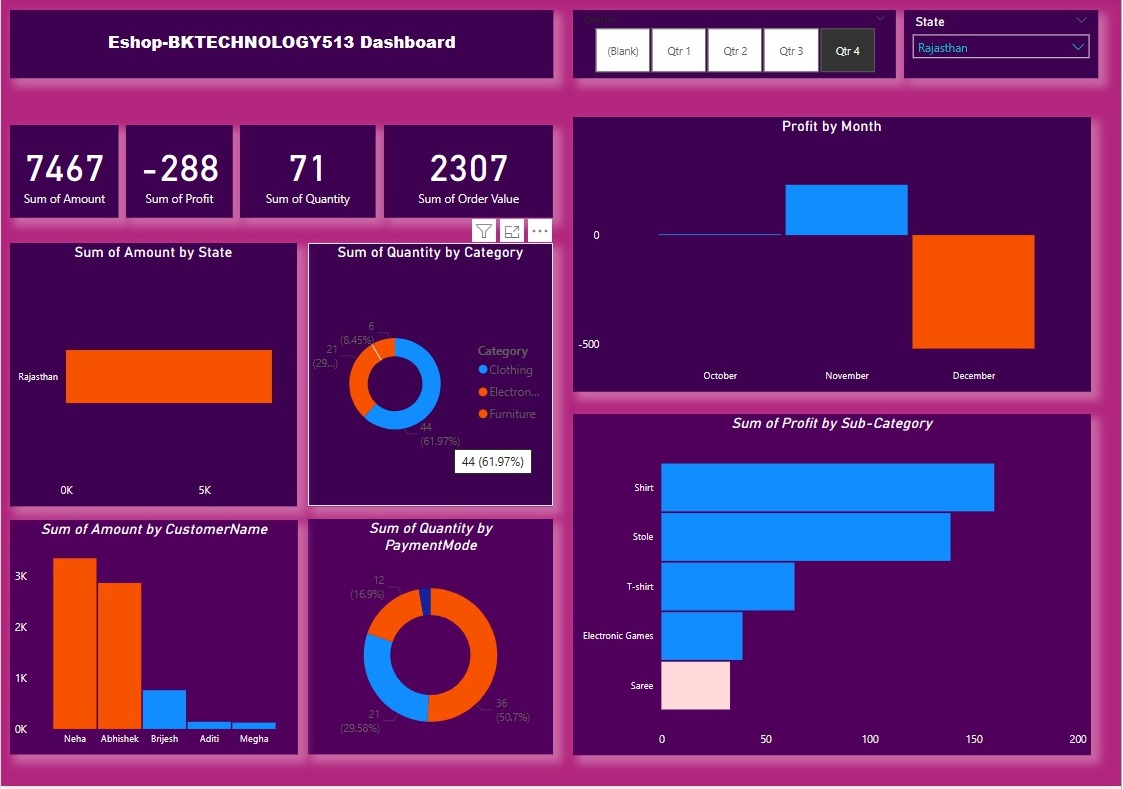

The page's visual inventory and layout, read from the dashboard file:
{"tool":"powerbi","page":{"name":"Page 1","canvas":[1280,900],"ordinal":0},"visuals":[{"type":"textbox","box":[9.9,13.2,621.2,77.9],"z":0},{"type":"columnChart","title":"Profit by Month","fields":{"Category":["Orders.Order Date.Variation.Date Hierarchy.Month"],"Y":["Details.Profit"]},"box":[654.1,136.1,591.6,313.9],"z":1000},{"type":"barChart","fields":{"Category":["Details.Sub-Category"],"Y":["Details.Profit"]},"box":[654.1,475.2,591.6,389.6],"z":2000},{"type":"donutChart","fields":{"Y":["Details.Quantity"],"Category":["Details.Category"]},"box":[351.2,279.9,279.9,300.7],"z":3000},{"type":"donutChart","fields":{"Y":["Details.Quantity"],"Category":["Details.PaymentMode"]},"box":[351.2,596,279.9,268.9],"z":4000},{"type":"card","fields":{"Values":["Details.Amount"]},"box":[9.9,144.9,124,106.5],"z":5000},{"type":"card","fields":{"Values":["Details.Profit"]},"box":[142.7,144.9,121.8,106.5],"z":6000},{"type":"card","fields":{"Values":["Details.Quantity"]},"box":[273.3,144.9,154.8,106.5],"z":7000},{"type":"card","fields":{"Values":["Details.Order Value"]},"box":[437.9,144.9,193.2,106.5],"z":8000},{"type":"barChart","fields":{"Category":["Orders.State"],"Y":["Details.Amount"]},"box":[9.9,279.9,328.2,300.7],"z":9000},{"type":"columnChart","fields":{"Category":["Orders.CustomerName"],"Y":["Details.Amount"]},"box":[9.9,597.1,329.3,267.8],"z":10000},{"type":"slicer","fields":{"Values":["Orders.Order Date.Variation.Date Hierarchy.Quarter"]},"box":[654.1,13.2,368.8,77.9],"z":11000},{"type":"slicer","fields":{"Values":["Orders.State"]},"box":[1031.7,13.2,221.7,77.9],"z":12000}]}

Visuals, with their boxes in screenshot pixels (x1, y1, x2, y2), scaled from the page's 1280x900 canvas onto the 1123x789 screenshot:
textbox: (left=9, top=12, right=554, bottom=80)
"Profit by Month" columnChart: (left=574, top=119, right=1093, bottom=394)
barChart - Details.Sub-Category x Details.Profit: (left=574, top=417, right=1093, bottom=758)
donutChart - Details.Quantity x Details.Category: (left=308, top=245, right=554, bottom=509)
donutChart - Details.Quantity x Details.PaymentMode: (left=308, top=522, right=554, bottom=758)
card - Details.Amount: (left=9, top=127, right=117, bottom=220)
card - Details.Profit: (left=125, top=127, right=232, bottom=220)
card - Details.Quantity: (left=240, top=127, right=376, bottom=220)
card - Details.Order Value: (left=384, top=127, right=554, bottom=220)
barChart - Orders.State x Details.Amount: (left=9, top=245, right=297, bottom=509)
columnChart - Orders.CustomerName x Details.Amount: (left=9, top=523, right=298, bottom=758)
slicer - Orders.Order Date.Variation.Date Hierarchy.Quarter: (left=574, top=12, right=897, bottom=80)
slicer - Orders.State: (left=905, top=12, right=1100, bottom=80)
